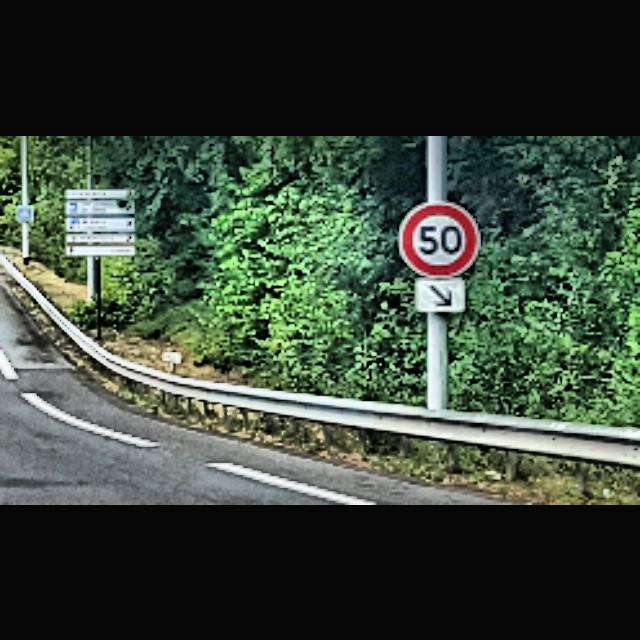speed_50: (399, 200, 481, 278)
